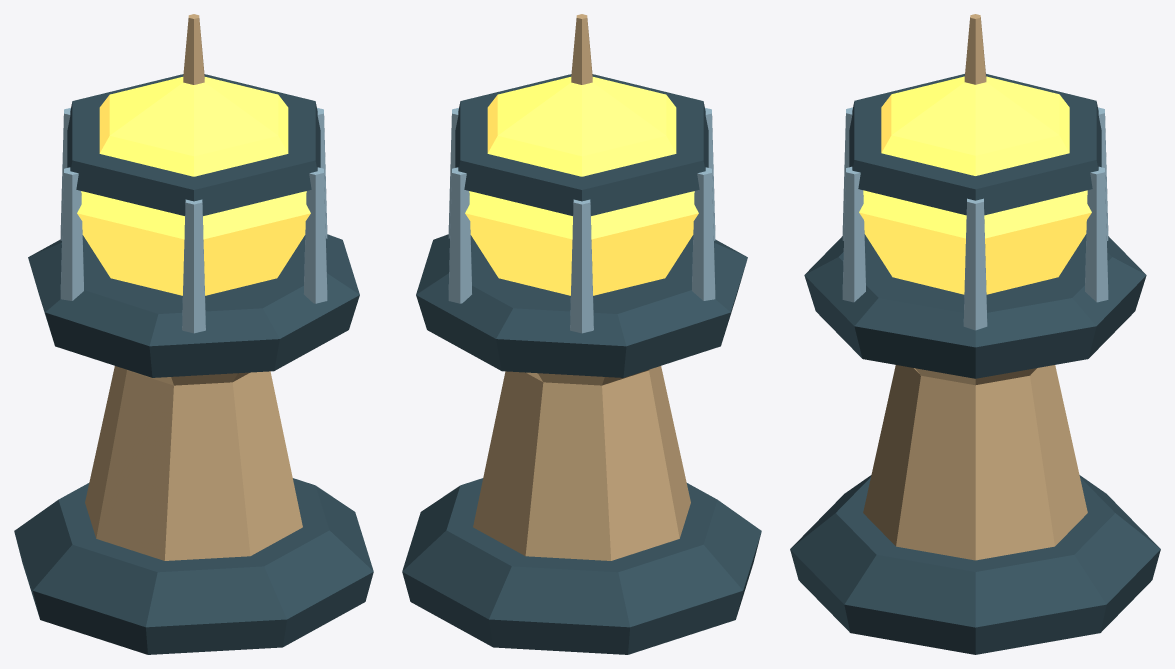
File: signal-beacon.glb
The picture shows the model from 3 angles, left to right: view 1: azimuth 30°, elevation 25°; view 2: azimuth 150°, elevation 25°; view 3: azimuth 270°, elevation 25°; orthographic projection.
Parts seen in each view (by area): view 1: Signal beacon; view 2: Signal beacon; view 3: Signal beacon.
Part boxes in pixels (x1,y1,x2,y2): Signal beacon: (14, 14, 373, 654); Signal beacon: (402, 14, 761, 654); Signal beacon: (790, 14, 1160, 654).
Size of the model in its own units: 1.3 by 2.18 by 1.3.
